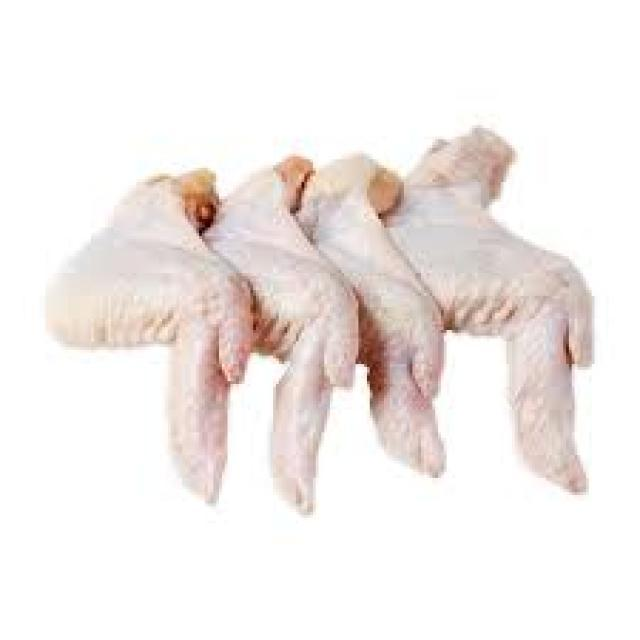wing: (44, 152, 264, 499), (408, 112, 596, 500), (219, 148, 363, 522), (313, 152, 452, 474)
